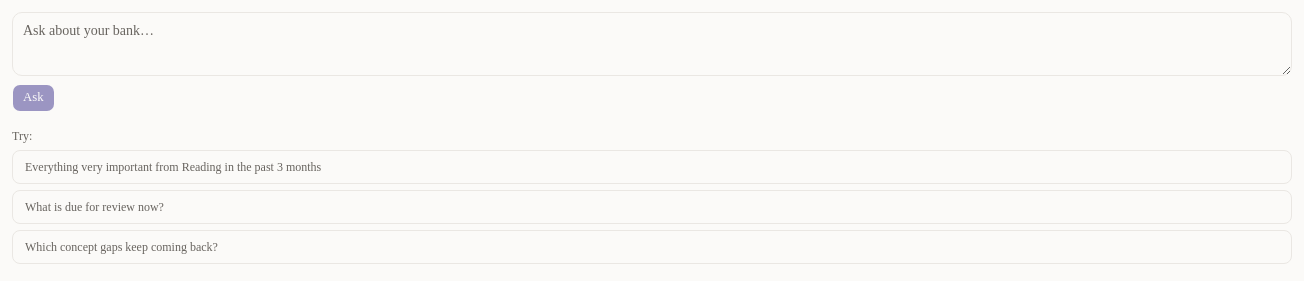
Test case: Ask › shows what was actually searched, so a misread sentence is visible
Step 1. Type "very important reading" into the text box labelled "Ask about your bank" → (652, 44), box [12, 12, 1292, 76]
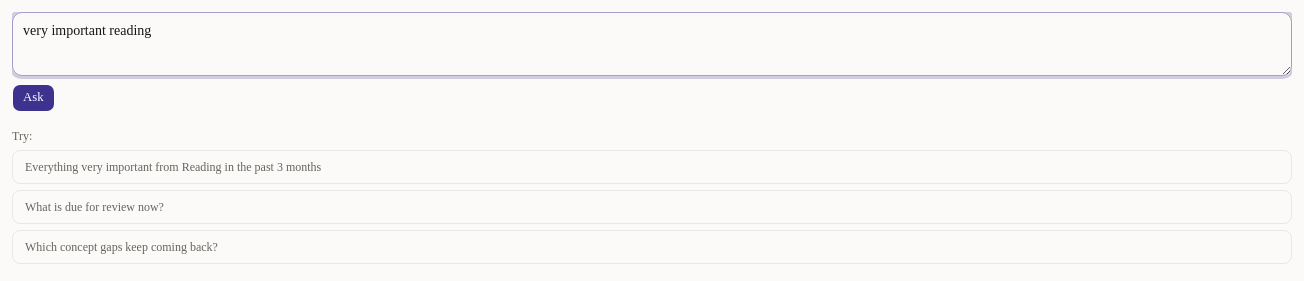
Step 2. Click the button "Ask" → click(33, 98), box [12, 84, 55, 112]
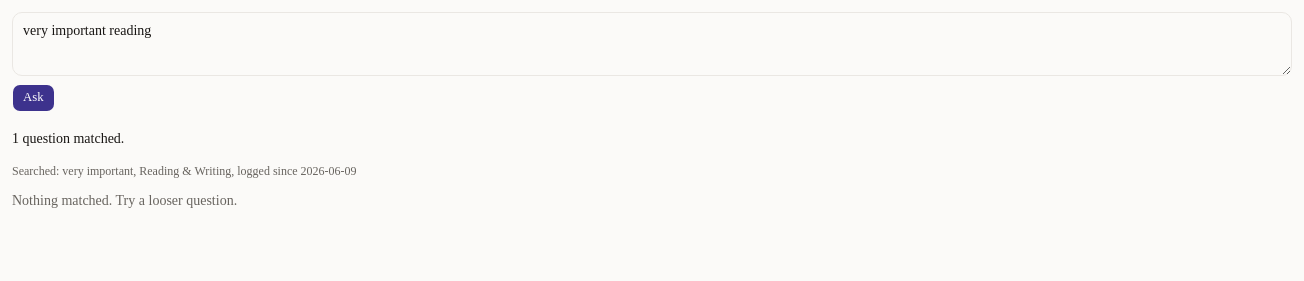
Expected: the text "Searched: very important, Reading & Writing, logged since" is shown, [12, 164, 357, 178]
Expected: the text "Nothing matched. Try a looser question." is shown, [12, 193, 237, 208]
